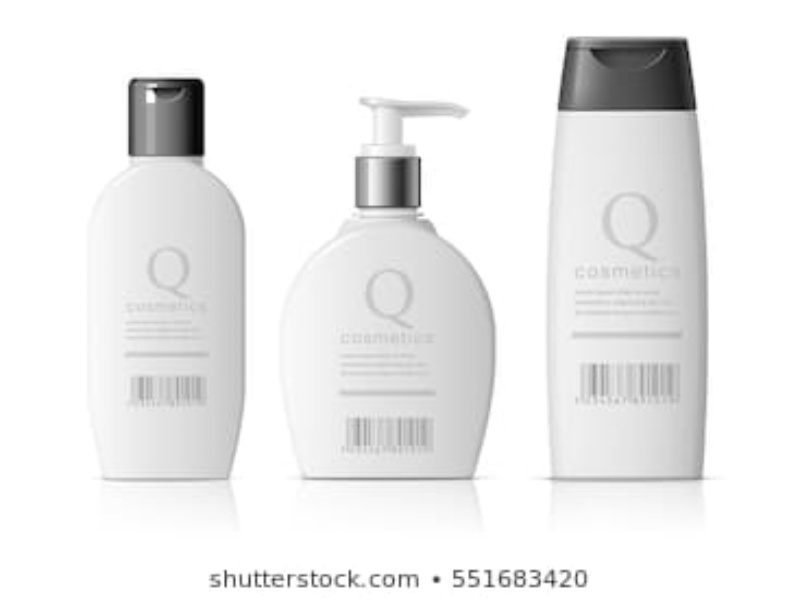shampoo-bottle: (274, 91, 500, 483), (540, 28, 716, 486), (81, 73, 251, 485)
